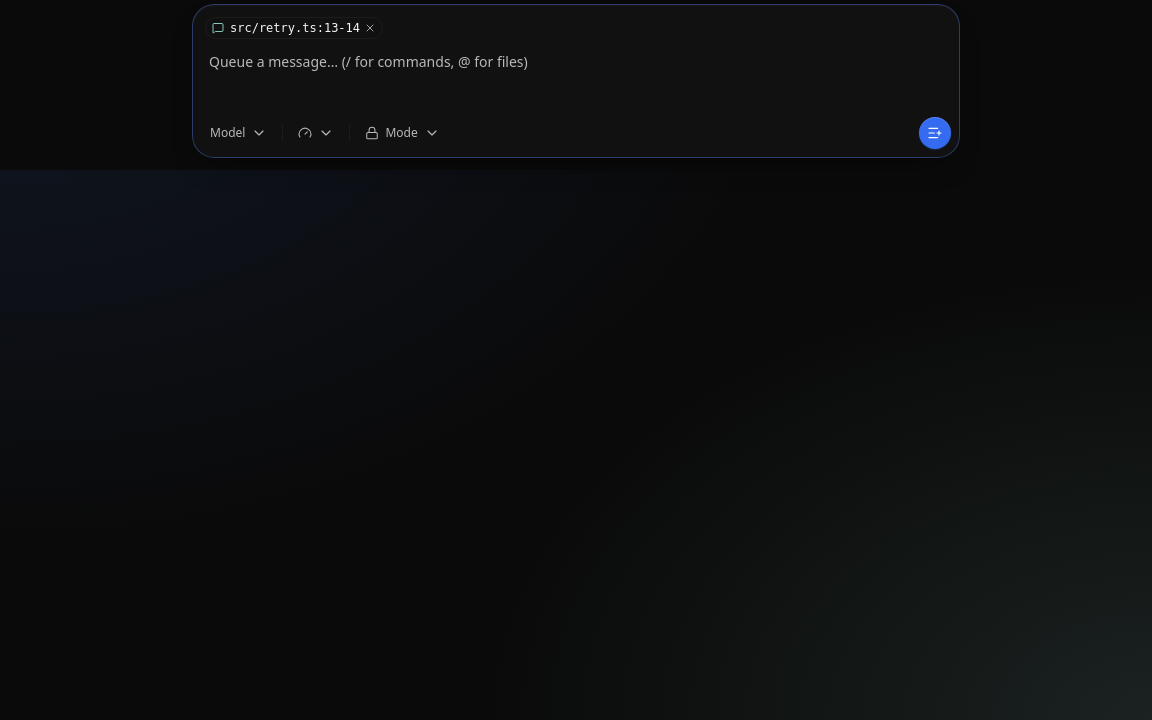
Test: Composer diff comments › sends comments alone, and gives them back apart from the text when rejected
Click the button named "Queue": coordinates (935, 133) [919, 117, 951, 149]
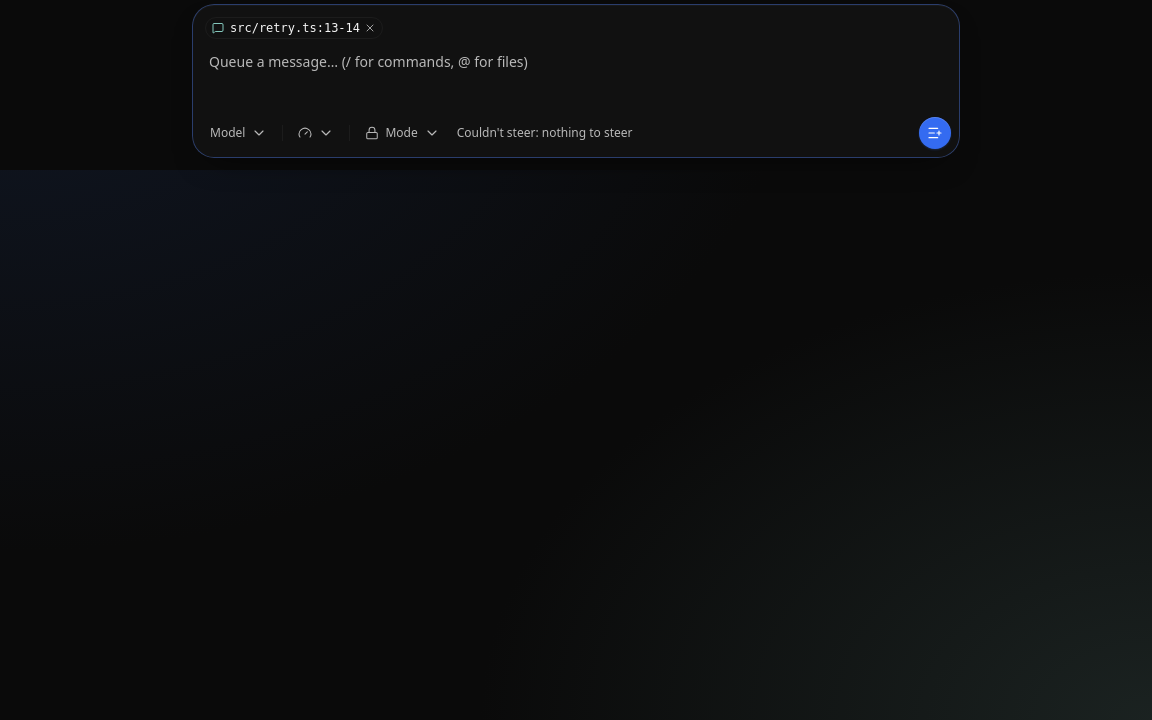
Check: the dropdown labelled "message" is empty, box [193, 39, 959, 117]
Check: the text "Couldn't steer: nothing to steer" is shown, box [457, 124, 632, 141]
